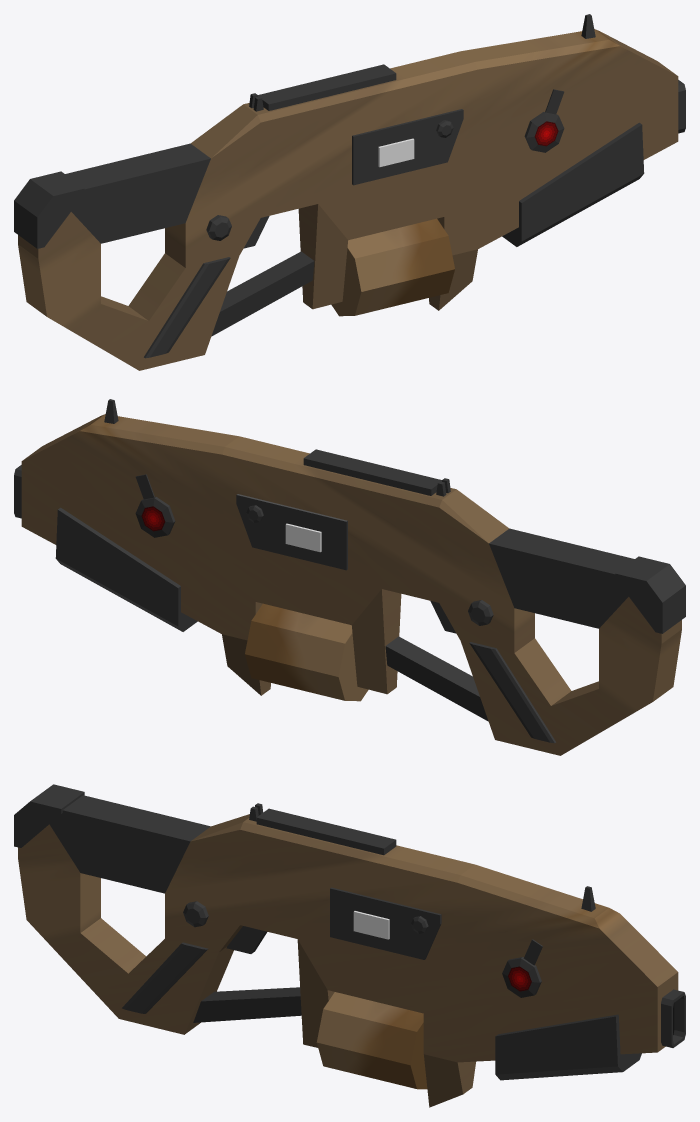
The model's file is Rifle_Pulse_B_V3.FBX.
The picture shows the model from 3 angles, top to bottom: view 1: azimuth 30°, elevation 25°; view 2: azimuth 150°, elevation 25°; view 3: azimuth 330°, elevation 25°; orthographic projection.
Parts seen in each view (by area): view 1: Rifle_Pulse_B_V3, Magazine; view 2: Rifle_Pulse_B_V3, Magazine; view 3: Rifle_Pulse_B_V3, Magazine.
Boxes of the visible parts, x1,y1,x2,y2 form: Rifle_Pulse_B_V3: [14, 14, 685, 370]; Magazine: [331, 218, 454, 316]; Rifle_Pulse_B_V3: [14, 399, 685, 755]; Magazine: [245, 603, 368, 701]; Rifle_Pulse_B_V3: [14, 784, 685, 1107]; Magazine: [316, 992, 427, 1089].
Bounding box in the file's own units: 331 × 123 × 39.24.
